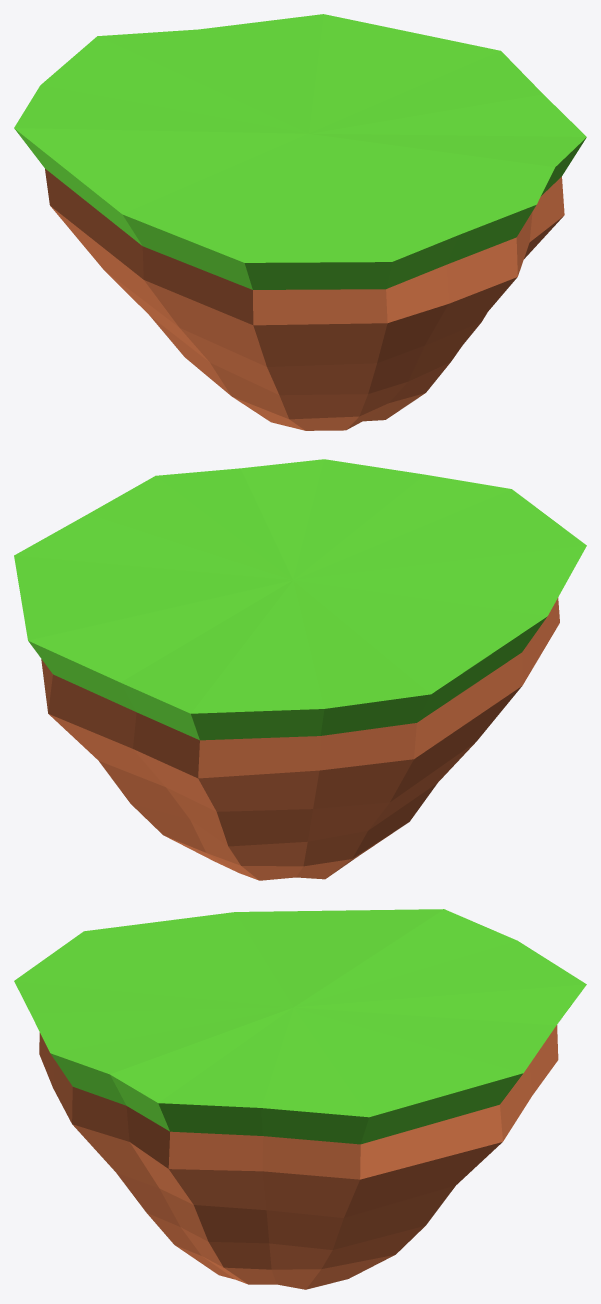
Rendered from Island6.fbx.
3 renders of one model, top to bottom at view 1: azimuth 30°, elevation 25°; view 2: azimuth 150°, elevation 25°; view 3: azimuth 270°, elevation 25°, orthographic. The views are drawn at different scales.
Parts seen in each view (by area): view 1: Island 6; view 2: Island 6; view 3: Island 6.
Boxes of the visible parts, x1,y1,x2,y2 form: Island 6: (14, 14, 586, 430); Island 6: (14, 459, 586, 880); Island 6: (14, 909, 586, 1289).
Bounding box in the file's own units: 938 × 536 × 1098.
